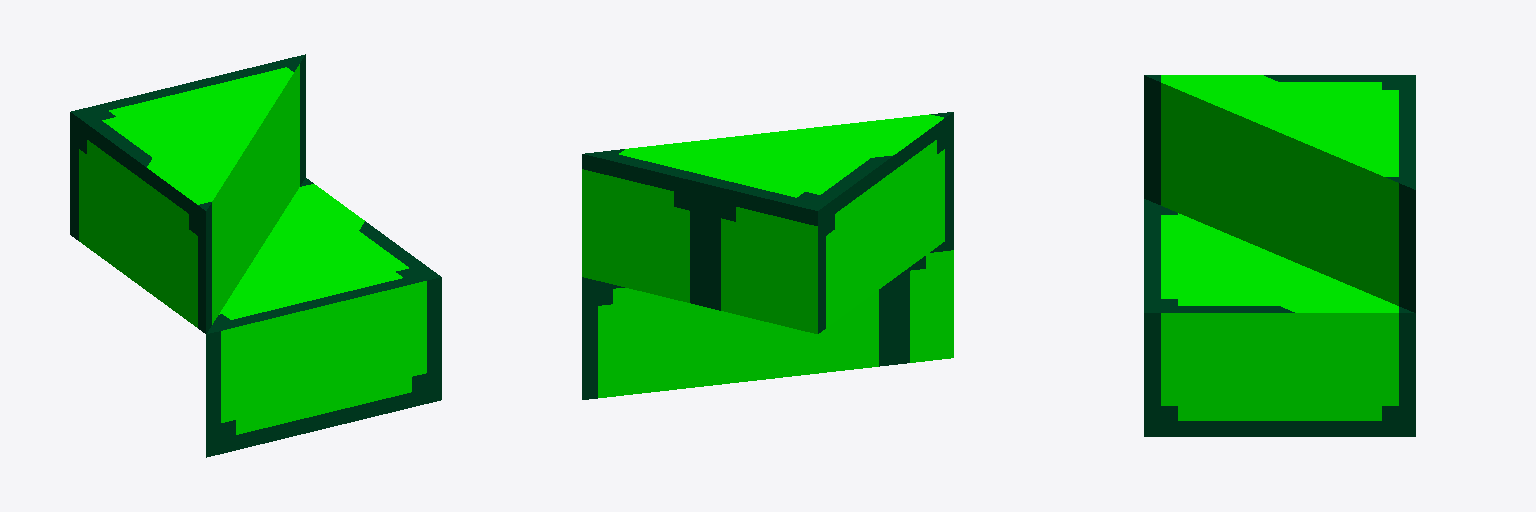
3 views of the same model, side by side, from view 1: azimuth 30°, elevation 25°; view 2: azimuth 150°, elevation 25°; view 3: azimuth 270°, elevation 25° (orthographic).
Visible parts, largest first — view 1: 10_green; view 2: 10_green; view 3: 10_green.
Boxes of the visible parts, x1,y1,x2,y2 form: 10_green: [70, 54, 441, 457]; 10_green: [582, 112, 953, 399]; 10_green: [1144, 75, 1415, 436].
Bounding box in the file's own units: 1 × 1 × 1.
1 materials, 1 textured.